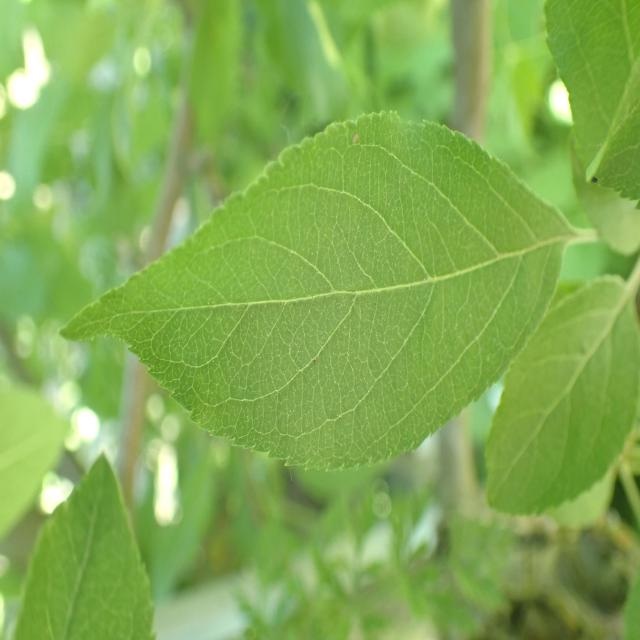healthy: (61, 109, 593, 474), (485, 269, 640, 518), (10, 449, 156, 640), (542, 0, 640, 202)
